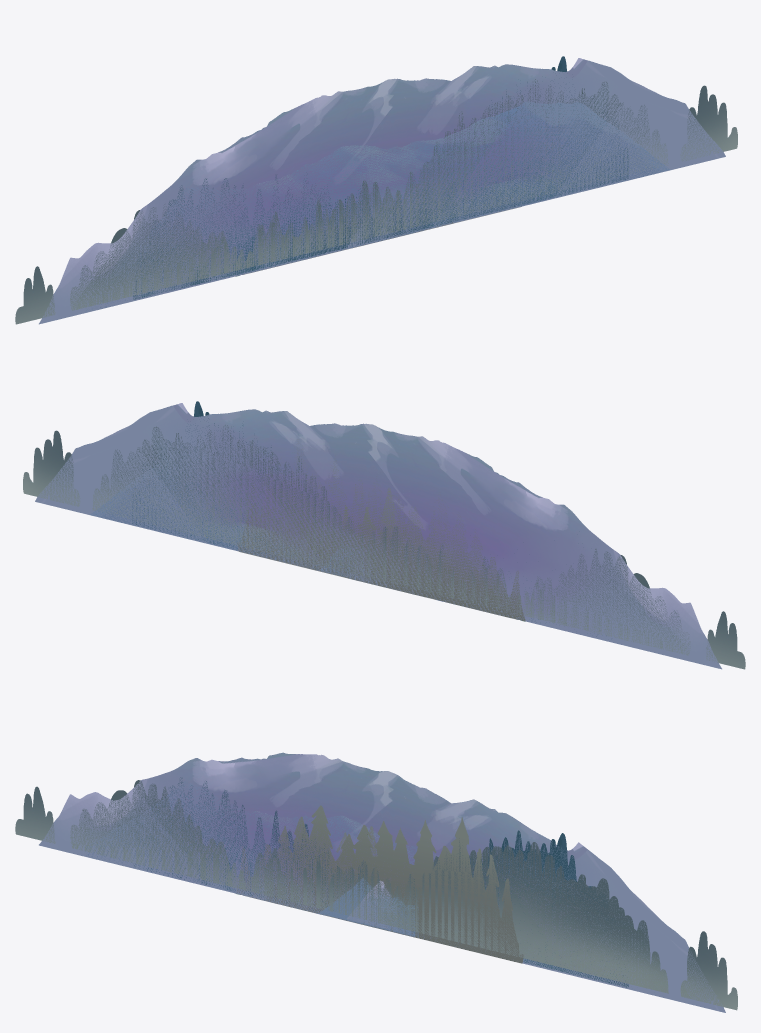
Rendered from VistaCard_MountainSmallA.fbx.
The picture shows the model from 3 angles, top to bottom: view 1: azimuth 30°, elevation 25°; view 2: azimuth 150°, elevation 25°; view 3: azimuth 330°, elevation 25°; orthographic projection.
Parts seen in each view (by area): view 1: VistaCard_Mountain, VistaCard_Trees2, VistaCard_Trees3, VistaCard_Trees4; view 2: VistaCard_Mountain, VistaCard_Trees3, VistaCard_Trees1, VistaCard_Trees2, VistaCard_TreesSmall, VistaCard_Trees4; view 3: VistaCard_Mountain, VistaCard_Trees3, VistaCard_Trees1, VistaCard_Trees4, VistaCard_Trees2, VistaCard_MountainSmallB, VistaCard_MountainSmallA.
Part boxes in pixels (x1,y1,x2,y2): VistaCard_Mountain: [39, 58, 725, 324]; VistaCard_Trees2: [86, 101, 669, 310]; VistaCard_Trees3: [15, 79, 737, 324]; VistaCard_Trees4: [133, 56, 628, 299]; VistaCard_Mountain: [35, 403, 721, 669]; VistaCard_Trees3: [23, 425, 745, 669]; VistaCard_Trees1: [237, 449, 525, 621]; VistaCard_Trees2: [90, 448, 591, 566]; VistaCard_TreesSmall: [308, 488, 437, 568]; VistaCard_Trees4: [132, 401, 596, 636]; VistaCard_Mountain: [39, 752, 725, 1012]; VistaCard_Trees3: [15, 780, 737, 1010]; VistaCard_Trees1: [235, 805, 523, 963]; VistaCard_Trees4: [134, 777, 628, 987]; VistaCard_Trees2: [85, 781, 577, 918]; VistaCard_MountainSmallB: [319, 877, 430, 938]; VistaCard_MountainSmallA: [346, 880, 413, 934].
Bounding box in the file's own units: 38276 × 8101 × 0.000612.
